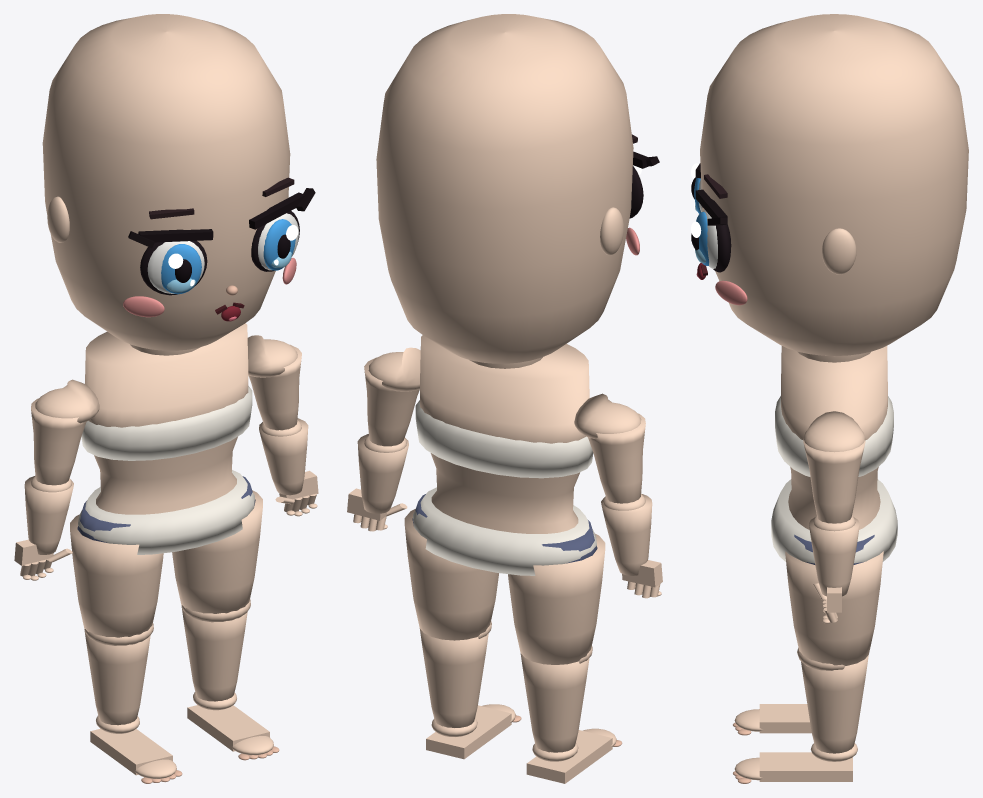
Rendered from body_f.glb.
The picture shows the model from 3 angles, left to right: view 1: azimuth 30°, elevation 25°; view 2: azimuth 150°, elevation 25°; view 3: azimuth 270°, elevation 25°; orthographic projection. The views are drawn at different scales.
Size of the model in its own units: 0.6303 by 1.43 by 0.4989.
